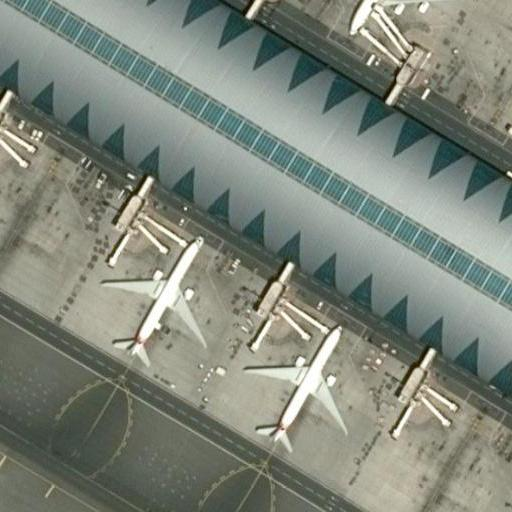Aircraft: (96, 225, 212, 367), (238, 312, 352, 448), (320, 0, 462, 41)
